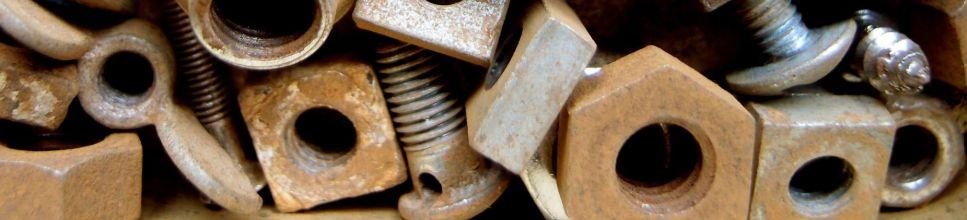metal: (0, 51, 950, 220), (1, 3, 260, 217), (355, 3, 543, 219), (557, 48, 753, 218), (717, 1, 856, 96), (179, 2, 352, 71), (877, 95, 966, 210), (355, 0, 512, 63), (2, 0, 135, 65), (9, 210, 949, 218), (0, 42, 79, 132), (901, 0, 967, 97)
